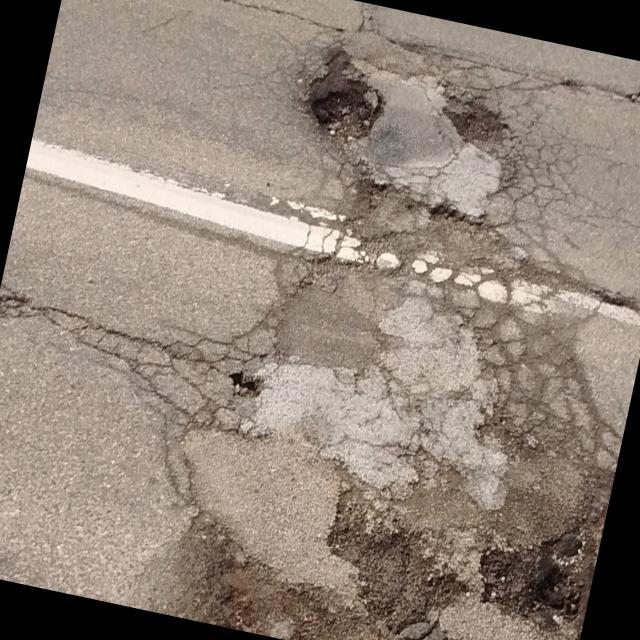Pothole: (311, 467, 482, 640), (463, 497, 603, 640), (298, 34, 398, 166), (176, 542, 292, 638), (440, 78, 520, 160), (424, 190, 496, 244), (221, 357, 267, 410), (623, 73, 640, 114)
